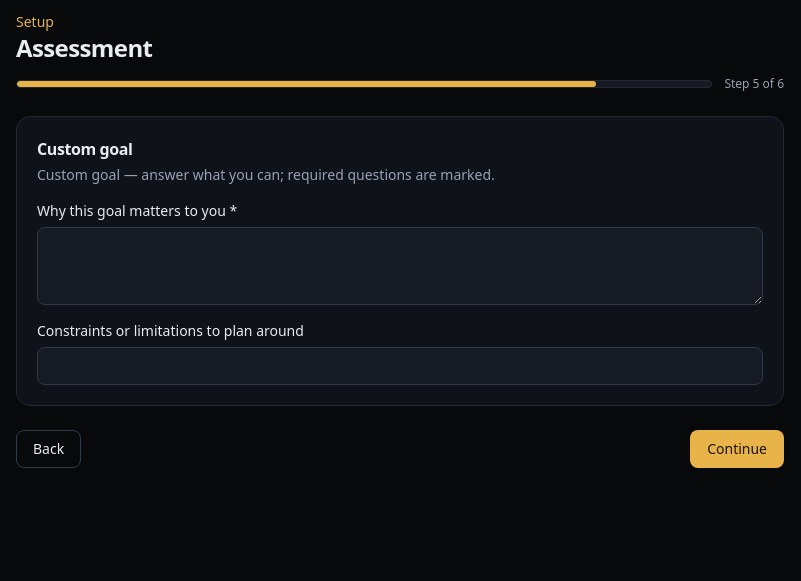
Test case: OnboardingPage › saves assessment answers and moves on to review
Type "I want clear priorities." into the text box labelled "Why this goal matters to you *" at (400, 266), box [37, 227, 763, 305]
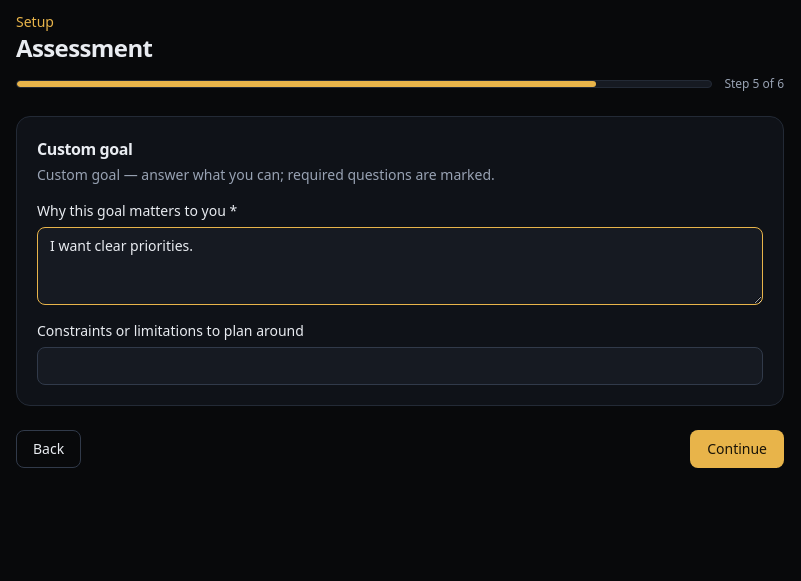
Click the button "Continue" at (737, 449), box [690, 430, 784, 468]
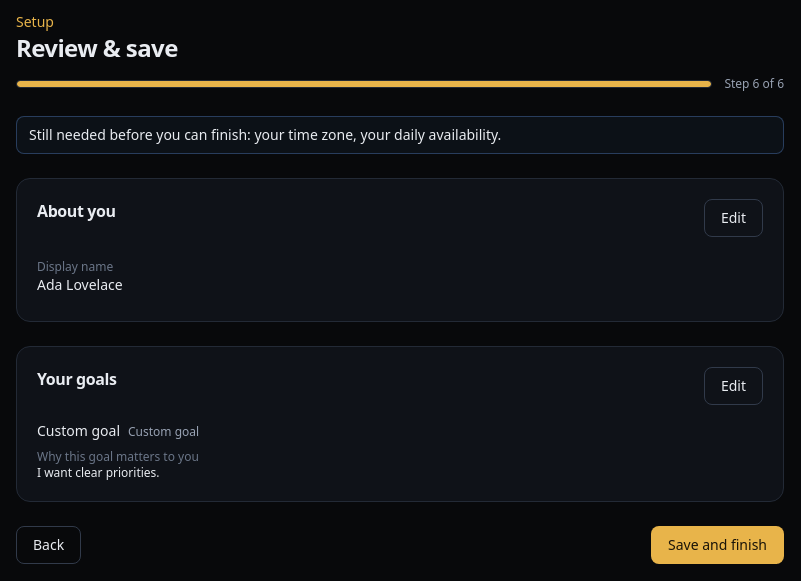
Check: the heading "Review & save" is shown, box [16, 31, 178, 64]
Check: the text "I want clear priorities." is shown, box [37, 464, 160, 481]
